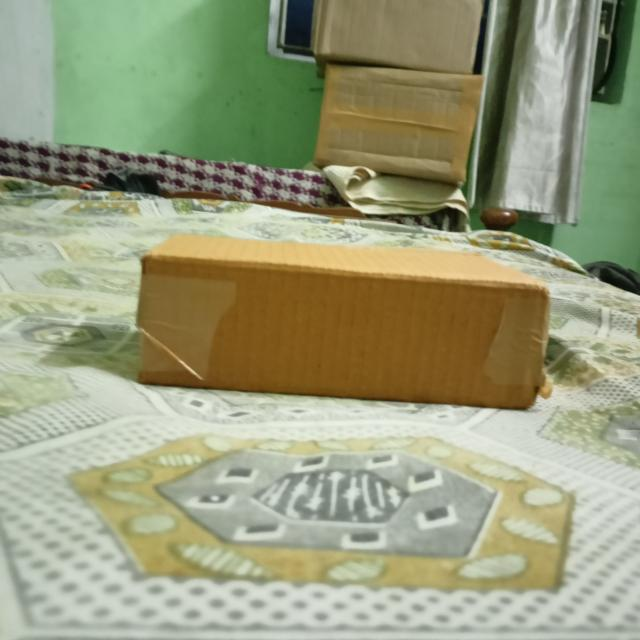box: (139, 258, 544, 408)
